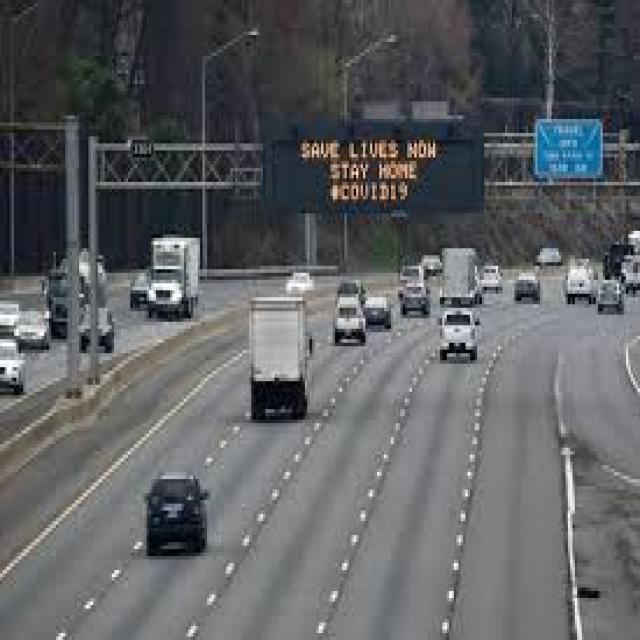vehicle: (226, 274, 344, 482), (114, 451, 269, 605), (139, 212, 208, 350), (432, 309, 504, 392), (0, 324, 38, 422), (560, 262, 601, 337), (518, 251, 552, 330)
